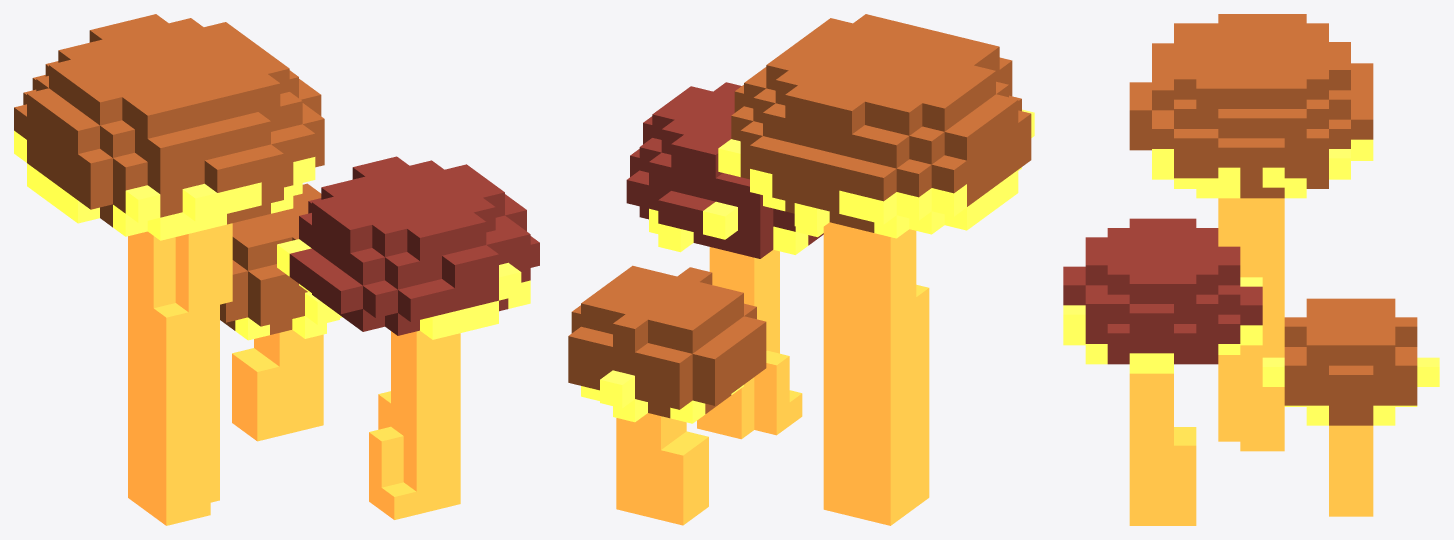
File: ash_mushrooms.glb
3 views of the same model, side by side, from view 1: azimuth 30°, elevation 25°; view 2: azimuth 150°, elevation 25°; view 3: azimuth 270°, elevation 25° (orthographic). The views are drawn at different scales.
Size of the model in its own units: 0.75 by 0.7917 by 0.7083.
